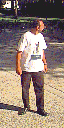person: (16, 15, 56, 118)
